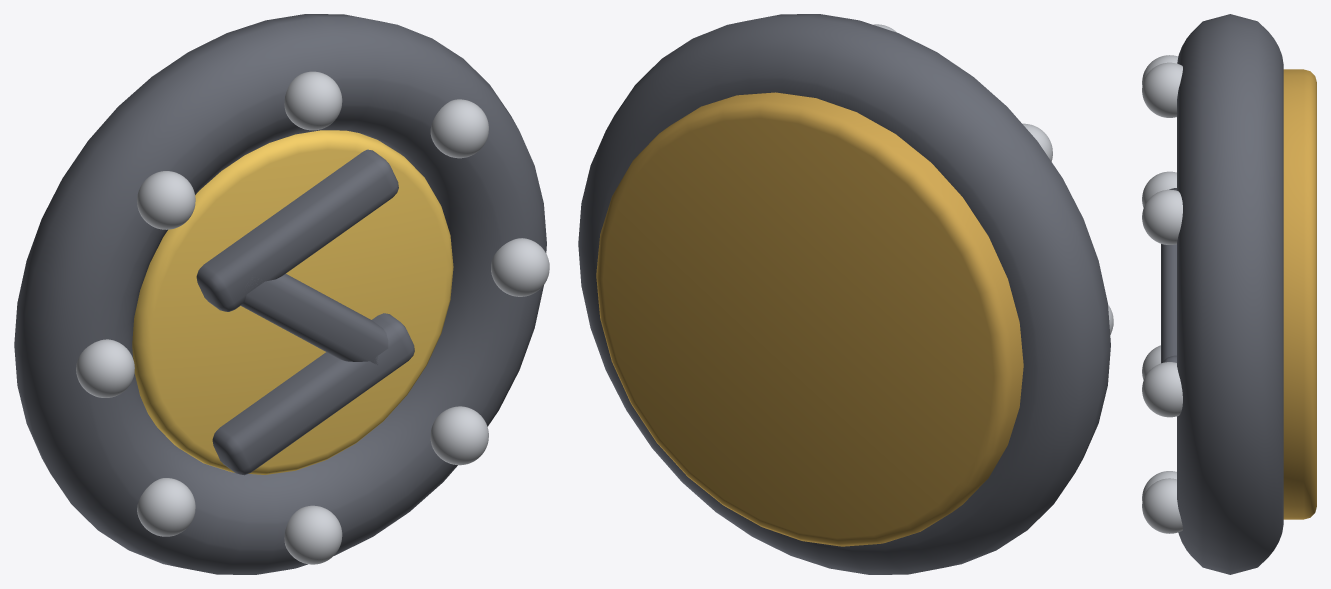
File: blitzcrank_core.glb
The picture shows the model from 3 angles, left to right: view 1: azimuth 30°, elevation 25°; view 2: azimuth 150°, elevation 25°; view 3: azimuth 270°, elevation 25°; orthographic projection. The views are drawn at different scales.
Parts seen in each view (by area): view 1: blitzcrank_core; view 2: blitzcrank_core; view 3: blitzcrank_core.
Boxes of the visible parts, x1,y1,x2,y2 form: blitzcrank_core: (14, 14, 549, 574); blitzcrank_core: (578, 14, 1113, 574); blitzcrank_core: (1142, 14, 1316, 574).
Bounding box in the file's own units: 0.324 × 0.324 × 0.101.
